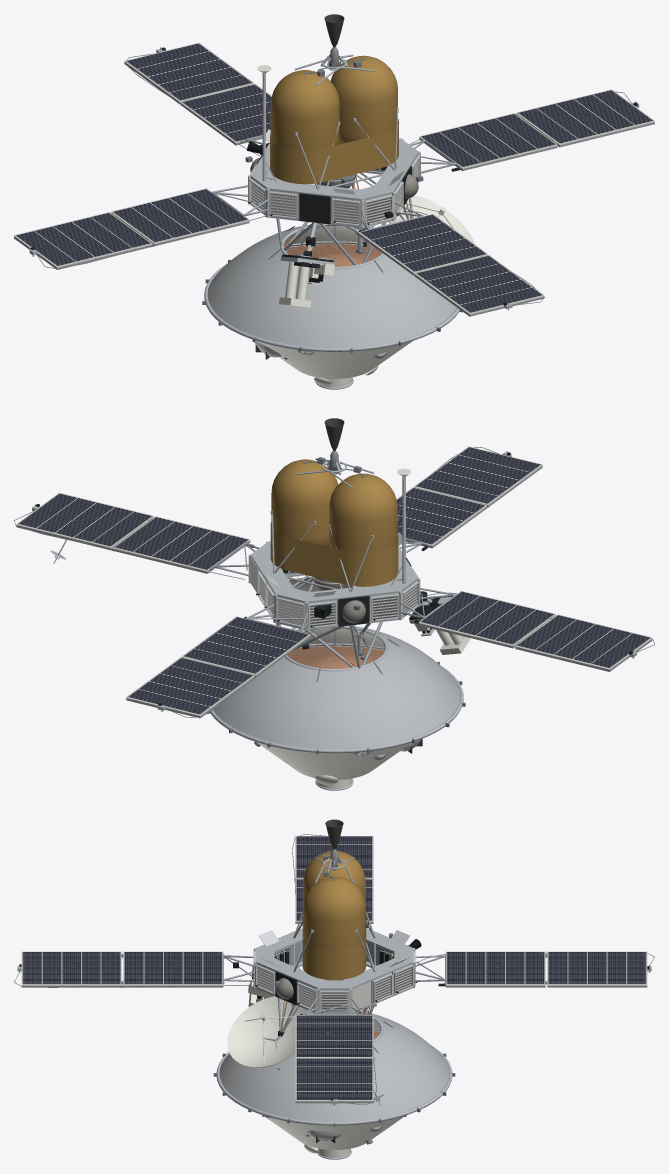
Rendered from viking2-exterior.glb.
The picture shows the model from 3 angles, top to bottom: view 1: azimuth 30°, elevation 25°; view 2: azimuth 150°, elevation 25°; view 3: azimuth 270°, elevation 25°; orthographic projection. The views are drawn at different scales.
Visible parts, largest first — view 1: VO2_ORBITER, VLC_BIOSHIELD_BASE, VLC_BASE_COVER, VLC_AEROSHELL; view 2: VO2_ORBITER, VLC_BIOSHIELD_BASE, VLC_BASE_COVER, VLC_AEROSHELL; view 3: VO2_ORBITER, VLC_BIOSHIELD_BASE, VLC_BASE_COVER.
Boxes of the visible parts, x1,y1,x2,y2 form: VO2_ORBITER: [14, 14, 654, 316]; VLC_BIOSHIELD_BASE: [202, 223, 462, 353]; VLC_BASE_COVER: [256, 243, 413, 389]; VLC_AEROSHELL: [287, 236, 381, 354]; VO2_ORBITER: [14, 418, 654, 718]; VLC_BIOSHIELD_BASE: [207, 625, 465, 754]; VLC_BASE_COVER: [254, 645, 411, 790]; VLC_AEROSHELL: [287, 638, 384, 755]; VO2_ORBITER: [14, 819, 654, 1105]; VLC_BIOSHIELD_BASE: [213, 1012, 455, 1126]; VLC_BASE_COVER: [264, 1030, 404, 1159].
Bounding box in the file's own units: 10.08 × 5.73 × 10.08.
Materials: 38 (4 with a texture image).
